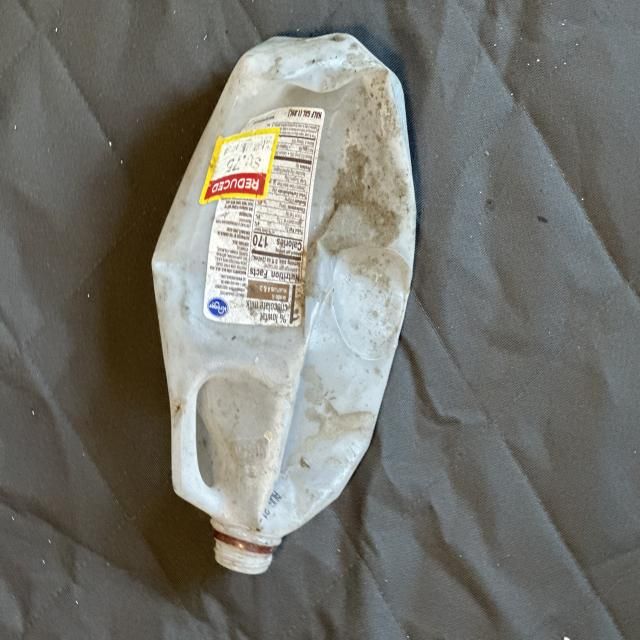milk-jug: (145, 32, 412, 571)
